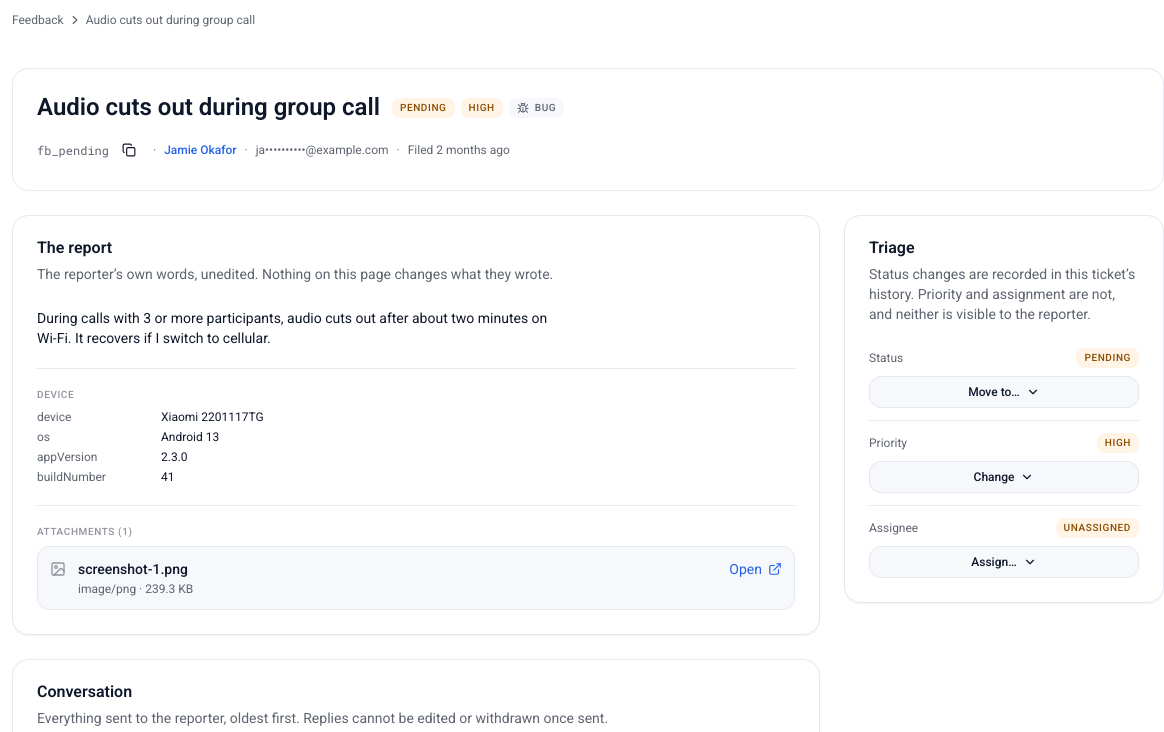
Test case: the status menu › offers exactly transitionsFor(current), and never the current status
The image size is (1164, 732).
Click the button "Move to…". click: coordinates (1004, 392)
box: [869, 376, 1139, 408]
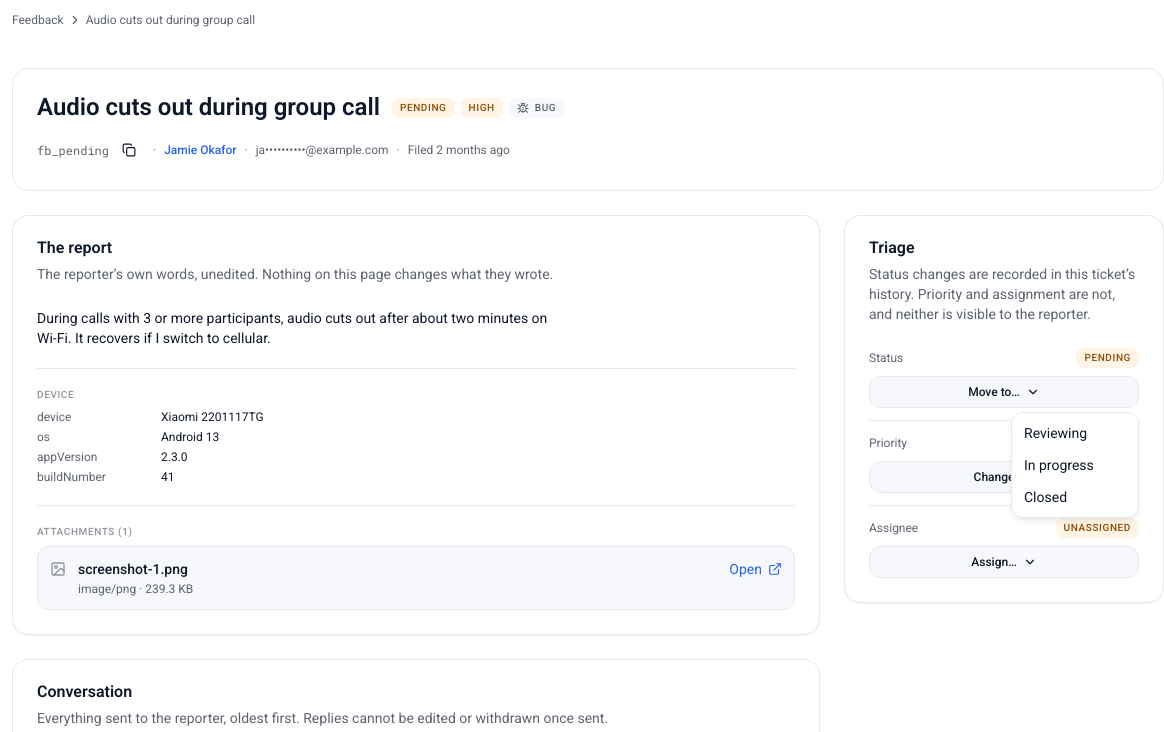
Expected: the menu item does not show "Pending"
Now the menu items read "Reviewing", "In progress", "Closed", in this order, box [1024, 425, 1087, 441]; [1024, 457, 1094, 473]; [1024, 489, 1067, 505]
